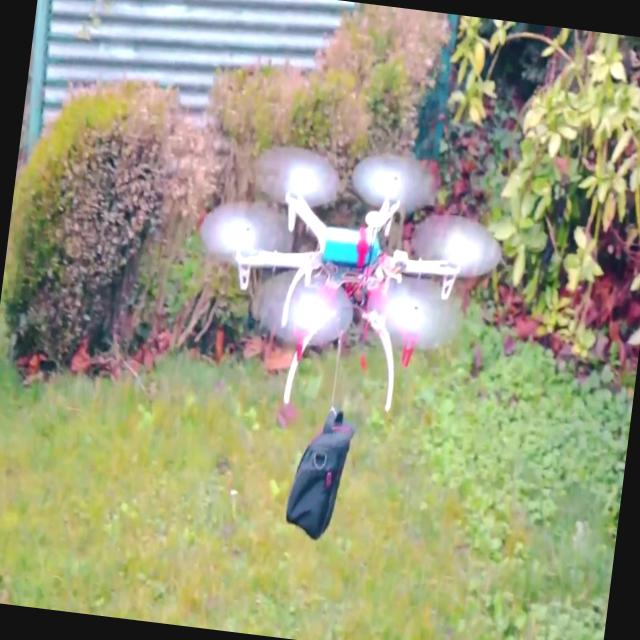drone: (183, 134, 512, 429)
